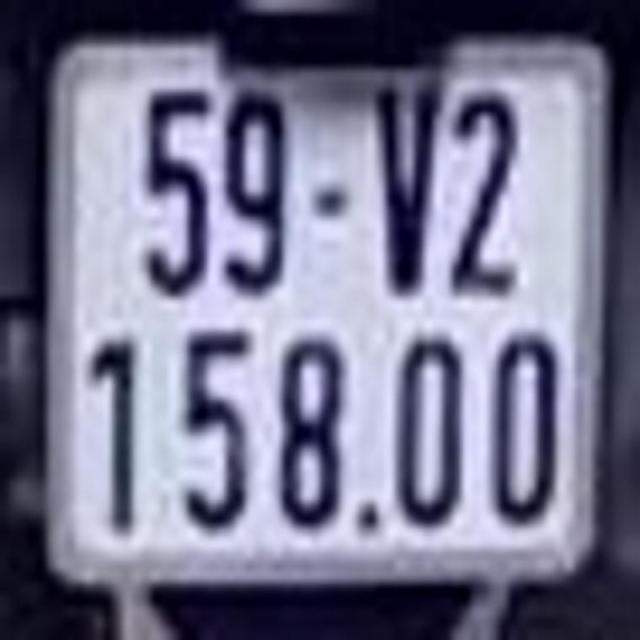0: (491, 324, 561, 527), (395, 333, 466, 528)
1: (97, 345, 145, 529)
2: (458, 96, 521, 299)
5: (180, 329, 250, 529), (145, 93, 209, 290)
8: (282, 337, 335, 520)
9: (225, 94, 283, 288)
V: (369, 91, 441, 295)
